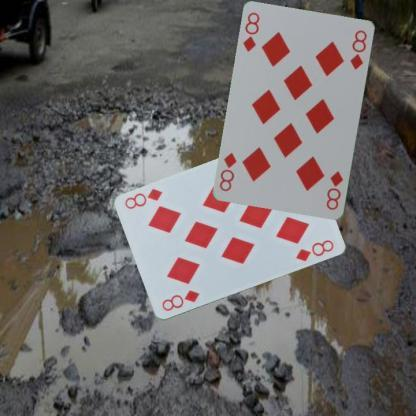8d: (159, 288, 201, 312), (323, 168, 345, 212), (240, 9, 262, 53)
